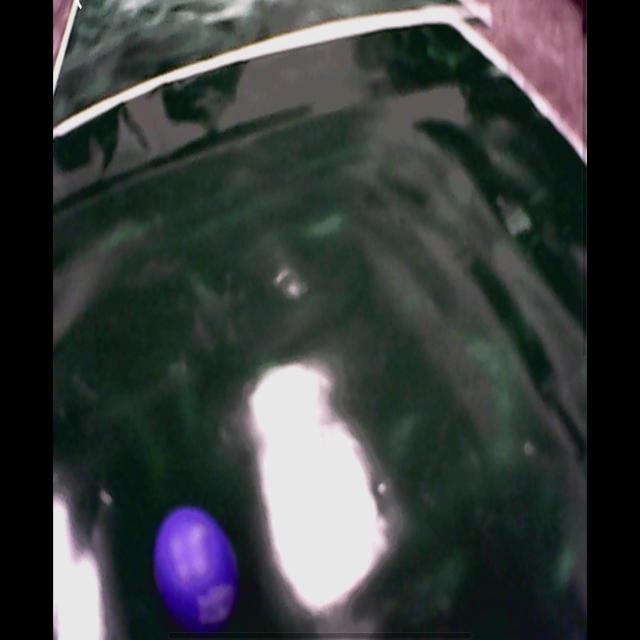ball: (157, 513, 240, 629)
